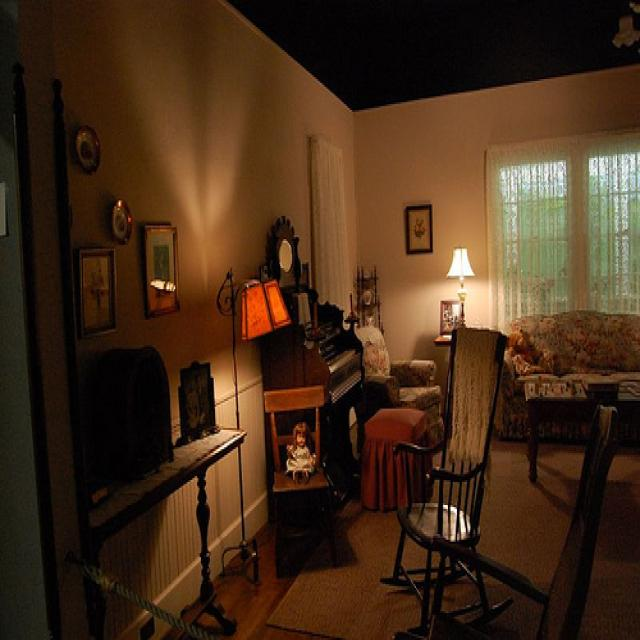Table: (49, 414, 251, 640)
chair: (386, 314, 518, 611), (255, 365, 341, 578), (513, 285, 640, 427), (351, 314, 439, 436), (374, 382, 430, 509)
